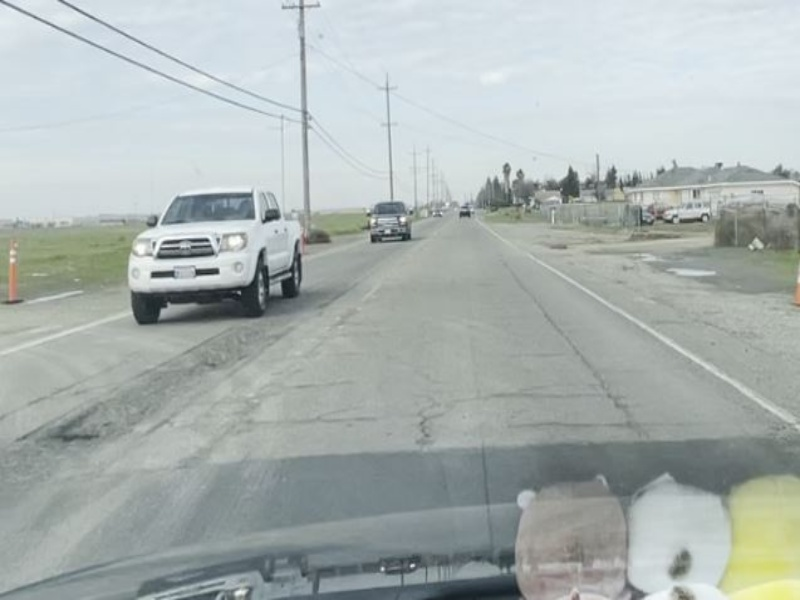pothole: (50, 428, 100, 448)
